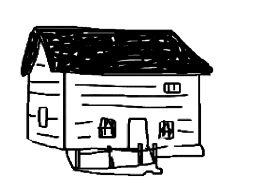closed_window: (154, 115, 178, 144), (159, 79, 187, 100), (96, 117, 119, 141)
door: (123, 110, 153, 156)
open_window: (33, 102, 51, 132)
shaded_roof: (7, 24, 211, 80)
wall: (59, 72, 209, 160)
